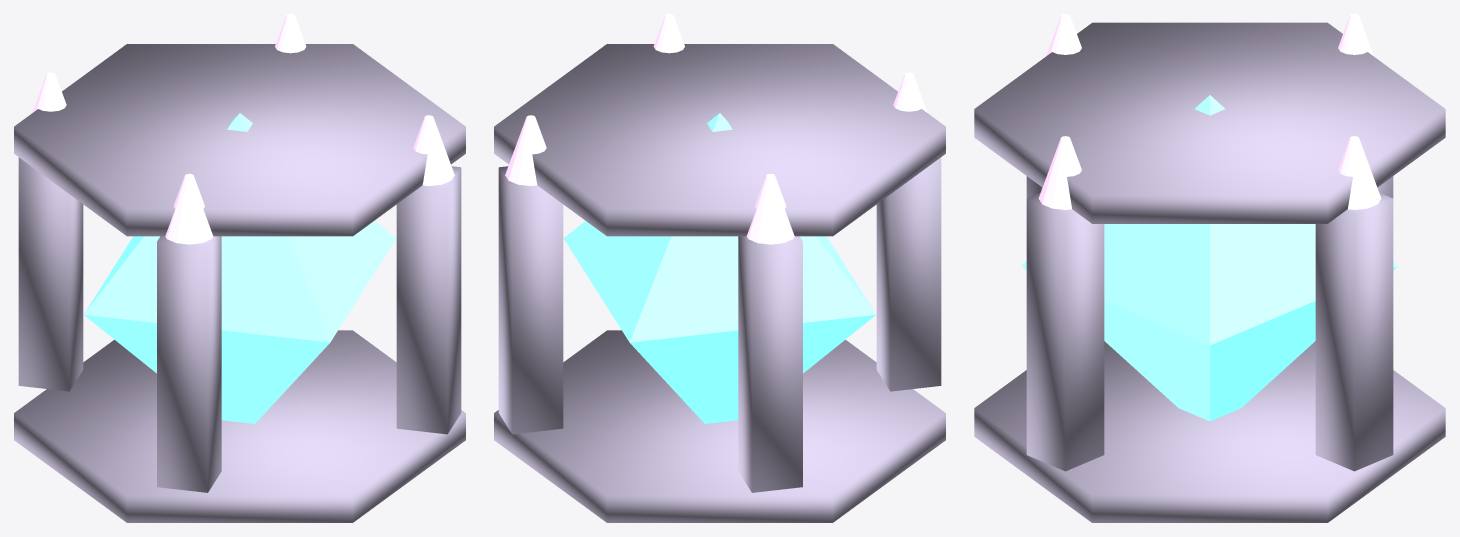
File: Active_Camo_Prism.glb
3 views of the same model, side by side, from view 1: azimuth 30°, elevation 25°; view 2: azimuth 150°, elevation 25°; view 3: azimuth 270°, elevation 25° (orthographic). The views are drawn at different scales.
Parts seen in each view (by area): view 1: GEO-camo_plate_0.28, GEO-camo_plate_0.07, GEO-camo_refraction_core, GEO-camo_pylon_2, GEO-camo_pylon_3, GEO-camo_pylon_1, GEO-camo_ear_2, GEO-camo_ear_3, GEO-camo_ear_1, GEO-camo_ear_0; view 2: GEO-camo_plate_0.28, GEO-camo_plate_0.07, GEO-camo_refraction_core, GEO-camo_pylon_1, GEO-camo_pylon_0, GEO-camo_pylon_2, GEO-camo_ear_1, GEO-camo_ear_0, GEO-camo_ear_2, GEO-camo_ear_3; view 3: GEO-camo_plate_0.28, GEO-camo_plate_0.07, GEO-camo_refraction_core, GEO-camo_pylon_0, GEO-camo_pylon_3, GEO-camo_ear_0, GEO-camo_ear_3, GEO-camo_ear_1, GEO-camo_ear_2.
Part boxes in pixels (bbox=[...]): GEO-camo_plate_0.28: bbox=[14, 44, 465, 236]; GEO-camo_plate_0.07: bbox=[14, 330, 465, 522]; GEO-camo_refraction_core: bbox=[83, 113, 396, 423]; GEO-camo_pylon_2: bbox=[157, 236, 221, 492]; GEO-camo_pylon_3: bbox=[396, 166, 461, 434]; GEO-camo_pylon_1: bbox=[18, 157, 83, 391]; GEO-camo_ear_2: bbox=[165, 173, 213, 244]; GEO-camo_ear_3: bbox=[413, 115, 454, 185]; GEO-camo_ear_1: bbox=[32, 72, 66, 112]; GEO-camo_ear_0: bbox=[275, 14, 306, 53]; GEO-camo_plate_0.28: bbox=[494, 44, 945, 236]; GEO-camo_plate_0.07: bbox=[494, 330, 945, 522]; GEO-camo_refraction_core: bbox=[563, 113, 876, 423]; GEO-camo_pylon_1: bbox=[738, 236, 802, 492]; GEO-camo_pylon_0: bbox=[498, 166, 563, 434]; GEO-camo_pylon_2: bbox=[876, 157, 941, 391]; GEO-camo_ear_1: bbox=[746, 173, 794, 244]; GEO-camo_ear_0: bbox=[505, 115, 546, 185]; GEO-camo_ear_2: bbox=[893, 72, 927, 112]; GEO-camo_ear_3: bbox=[653, 14, 684, 53]; GEO-camo_plate_0.28: bbox=[974, 22, 1445, 223]; GEO-camo_plate_0.07: bbox=[974, 341, 1445, 522]; GEO-camo_refraction_core: bbox=[1021, 95, 1398, 421]; GEO-camo_pylon_0: bbox=[1315, 193, 1393, 471]; GEO-camo_pylon_3: bbox=[1026, 193, 1104, 471]; GEO-camo_ear_0: bbox=[1338, 136, 1381, 209]; GEO-camo_ear_3: bbox=[1038, 136, 1081, 209]; GEO-camo_ear_1: bbox=[1338, 14, 1373, 56]; GEO-camo_ear_2: bbox=[1046, 14, 1081, 56].
Bounding box in the file's own units: 0.2598 × 0.2525 × 0.3.
